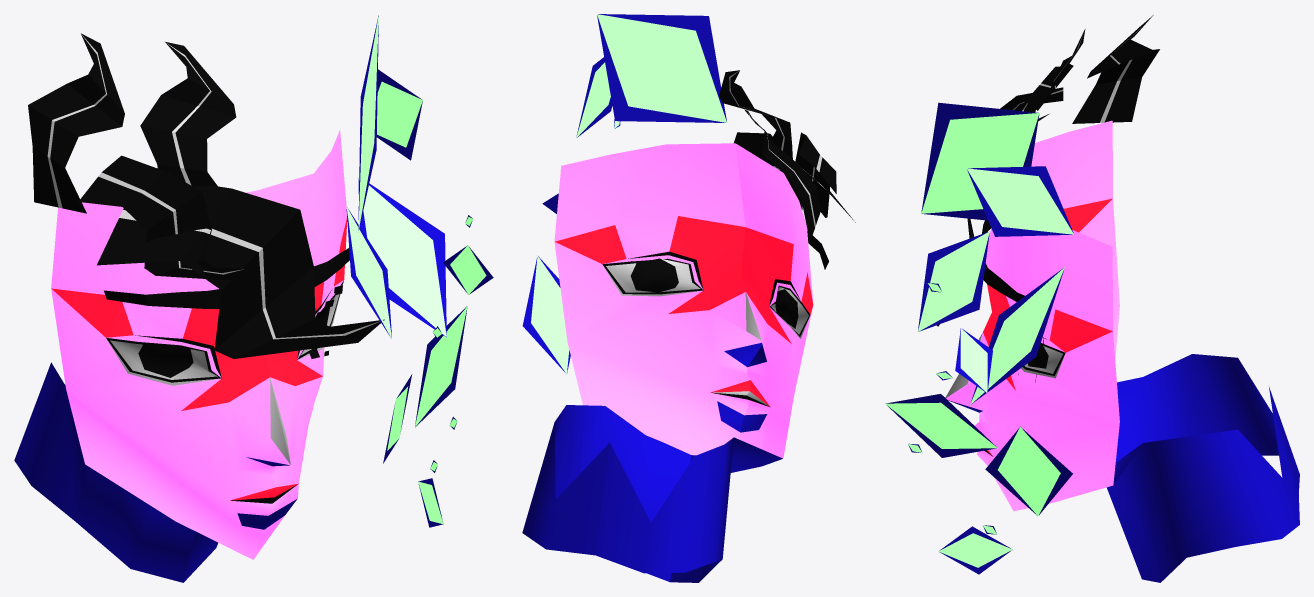
File: remesh.fbx
The picture shows the model from 3 angles, left to right: view 1: azimuth 30°, elevation 25°; view 2: azimuth 150°, elevation 25°; view 3: azimuth 270°, elevation 25°; orthographic projection. The views are drawn at different scales.
Parts seen in each view (by area): view 1: Plane.002, Plane.016, Plane.011, Plane.009, Plane.015, Plane.010, Plane.012, Plane.023, Plane.013, Plane.024, Plane.003, Plane.020 (+2 smaller); view 2: Plane.002, Plane.024, Plane.012, Plane.011, Plane.010, Plane.009, Plane.023, Plane.016; view 3: Plane.002, Plane.024, Plane.023, Plane.013, Plane.015, Plane.011, Plane.012, Plane.014, Plane.017, Plane.020, Plane.010, Plane.003.
Part boxes in pixels (<box>): Plane.002: <box>14,130,347,582</box>; Plane.016: <box>97,185,384,358</box>; Plane.011: <box>28,33,124,213</box>; Plane.009: <box>78,155,245,280</box>; Plane.015: <box>358,176,446,337</box>; Plane.010: <box>140,42,236,186</box>; Plane.012: <box>414,306,467,427</box>; Plane.023: <box>376,69,422,160</box>; Plane.013: <box>346,206,391,338</box>; Plane.024: <box>358,14,378,232</box>; Plane.003: <box>104,248,349,308</box>; Plane.020: <box>443,245,493,294</box>; Plane.002: <box>522,143,813,582</box>; Plane.024: <box>597,14,726,122</box>; Plane.012: <box>522,255,570,374</box>; Plane.011: <box>745,110,820,242</box>; Plane.010: <box>719,70,792,179</box>; Plane.009: <box>795,132,836,217</box>; Plane.023: <box>576,57,612,138</box>; Plane.016: <box>734,132,855,222</box>; Plane.002: <box>945,120,1299,582</box>; Plane.024: <box>921,102,1039,220</box>; Plane.023: <box>966,166,1073,236</box>; Plane.013: <box>918,231,989,331</box>; Plane.015: <box>970,267,1064,404</box>; Plane.011: <box>1072,15,1159,123</box>; Plane.012: <box>985,426,1072,515</box>; Plane.014: <box>885,394,997,457</box>; Plane.017: <box>938,526,1012,574</box>; Plane.020: <box>955,328,992,393</box>; Plane.010: <box>1017,29,1085,112</box>; Plane.003: <box>982,220,1024,301</box>.
Size of the model in its own units: 568 by 838 by 596.
